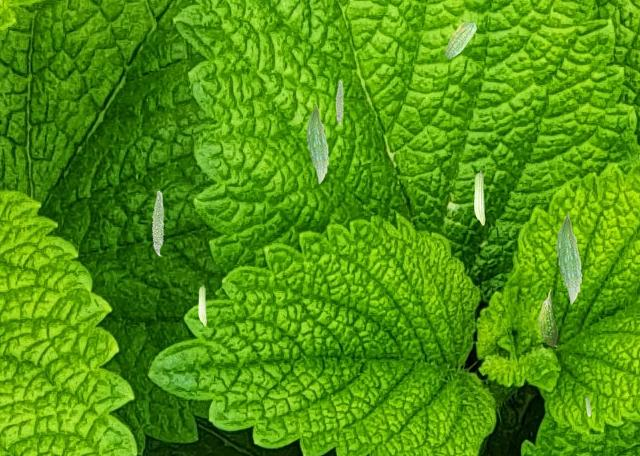ampalaya: (556, 213, 582, 305), (306, 104, 329, 184), (537, 289, 558, 347), (444, 21, 476, 58), (151, 189, 164, 256), (473, 169, 485, 225), (335, 79, 344, 125), (198, 284, 207, 326), (584, 396, 591, 416)
